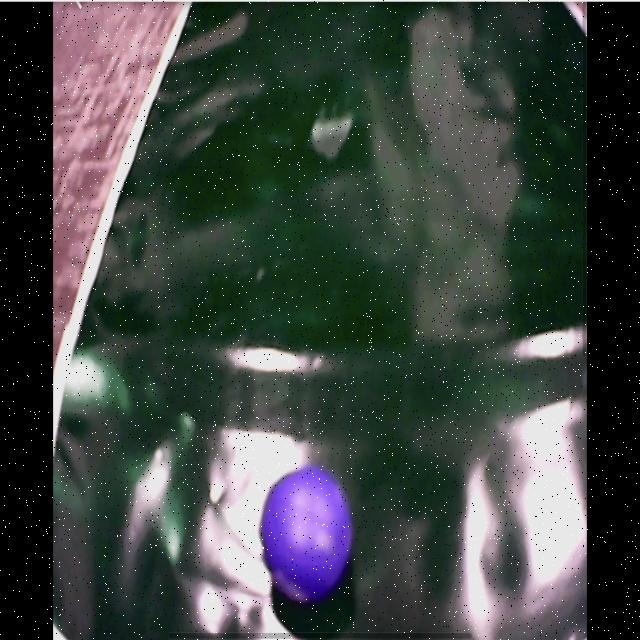ball: (261, 468, 352, 601)
